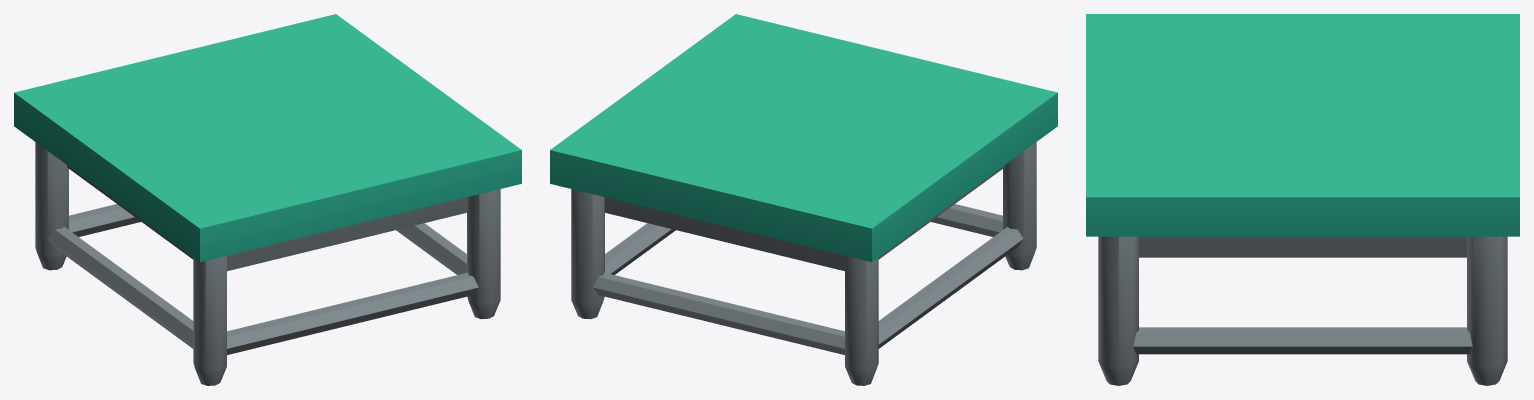
The model's file is kay-kitchentable_b.glb.
The picture shows the model from 3 angles, left to right: view 1: azimuth 30°, elevation 25°; view 2: azimuth 150°, elevation 25°; view 3: azimuth 270°, elevation 25°; orthographic projection. The views are drawn at different scales.
Parts seen in each view (by area): view 1: kitchentable_B; view 2: kitchentable_B; view 3: kitchentable_B.
Boxes of the visible parts, x1,y1,x2,y2 form: kitchentable_B: [14, 14, 521, 385]; kitchentable_B: [550, 14, 1057, 385]; kitchentable_B: [1086, 14, 1519, 385].
Bounding box in the file's own units: 1.8 × 0.9034 × 1.8.
Materials: 1 (1 with a texture image).
